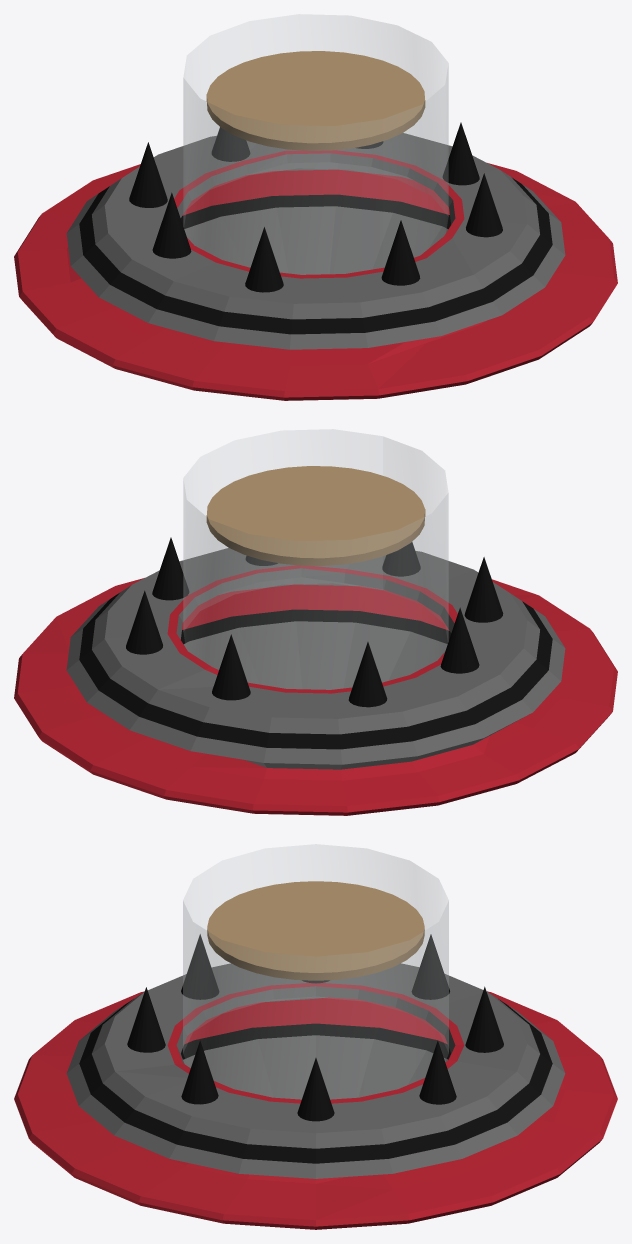
Rendered from deepseek41_t03.glb.
3 views of the same model, one above another, from view 1: azimuth 30°, elevation 25°; view 2: azimuth 150°, elevation 25°; view 3: azimuth 270°, elevation 25° (orthographic).
Visible parts, largest first — view 1: slot_anchor_saucer, slot_dome, slot_disc; view 2: slot_anchor_saucer, slot_dome, slot_disc; view 3: slot_anchor_saucer, slot_dome, slot_disc.
Boxes of the visible parts, x1,y1,x2,y2 form: slot_anchor_saucer: [14, 122, 617, 400]; slot_dome: [183, 14, 448, 274]; slot_disc: [206, 51, 425, 150]; slot_anchor_saucer: [14, 537, 617, 815]; slot_dome: [183, 429, 448, 689]; slot_disc: [206, 466, 425, 565]; slot_anchor_saucer: [14, 934, 617, 1229]; slot_dome: [183, 844, 448, 1098]; slot_disc: [207, 881, 424, 980].
Bounding box in the file's own units: 2 × 1.06 × 2.
Materials: 3 (1 with a texture image).
